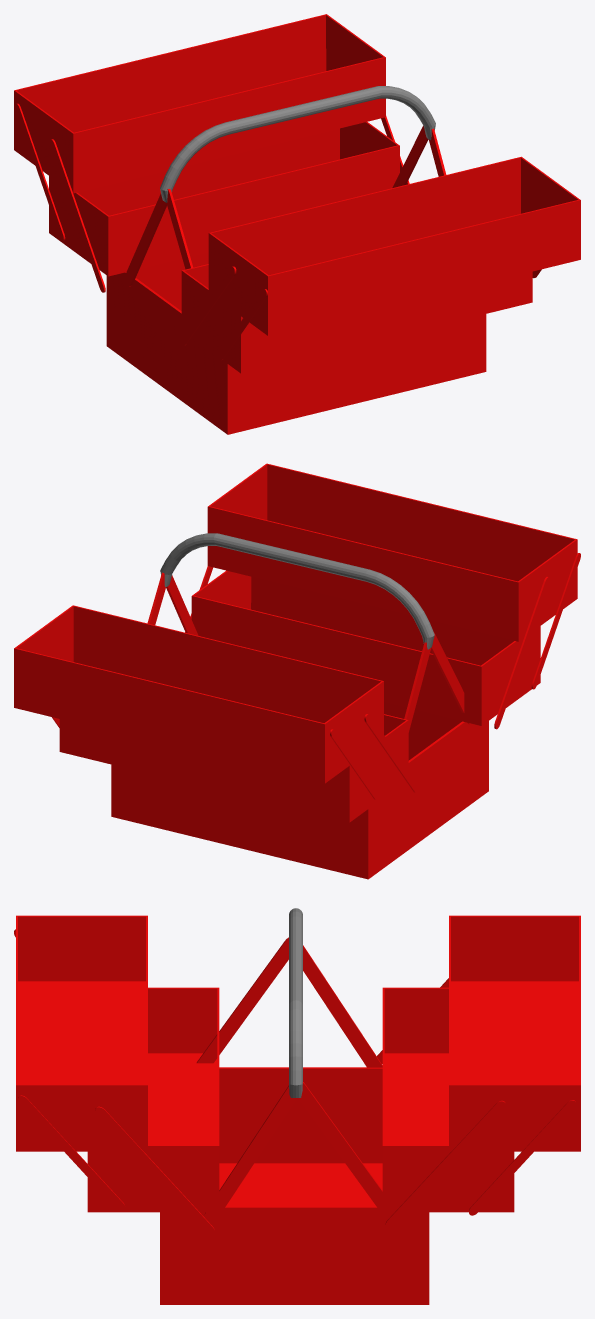
File: Toolbox.fbx
3 views of the same model, one above another, from view 1: azimuth 30°, elevation 25°; view 2: azimuth 150°, elevation 25°; view 3: azimuth 270°, elevation 25° (orthographic). The views are drawn at different scales.
Visible parts, largest first — view 1: Circle.002; view 2: Circle.002; view 3: Circle.002.
Part boxes in pixels (<box>): Circle.002: <box>14,14,580,434</box>; Circle.002: <box>14,463,580,879</box>; Circle.002: <box>14,908,580,1304</box>.
Size of the model in its own units: 179 by 137 by 250.
